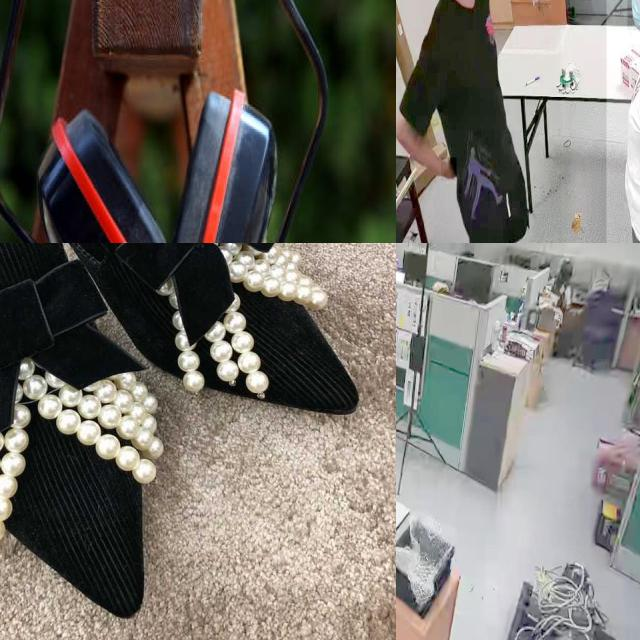Ear-protection: (0, 0, 334, 243)
Sandals: (0, 243, 386, 639)
hand_noglove: (441, 158, 457, 182)
person: (396, 0, 561, 243)
